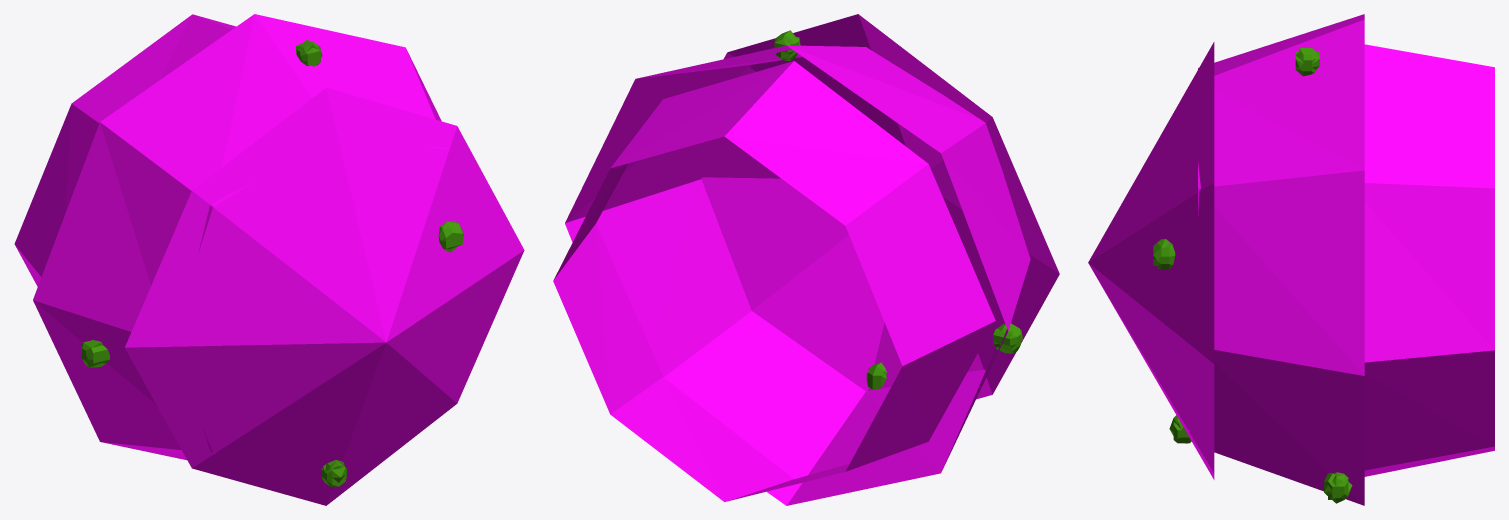
The model's file is jangerberrybush.obj.
3 renders of one model, left to right at view 1: azimuth 30°, elevation 25°; view 2: azimuth 150°, elevation 25°; view 3: azimuth 270°, elevation 25°, orthographic. The views are drawn at different scales.
Visible parts, largest first — view 1: jangerberrybush; view 2: jangerberrybush; view 3: jangerberrybush.
Boxes of the visible parts, x1,y1,x2,y2 form: jangerberrybush: (14,14,524,505); jangerberrybush: (553,14,1059,505); jangerberrybush: (1088,14,1494,505).
Bounding box in the file's own units: 1.32 × 1.31 × 1.
